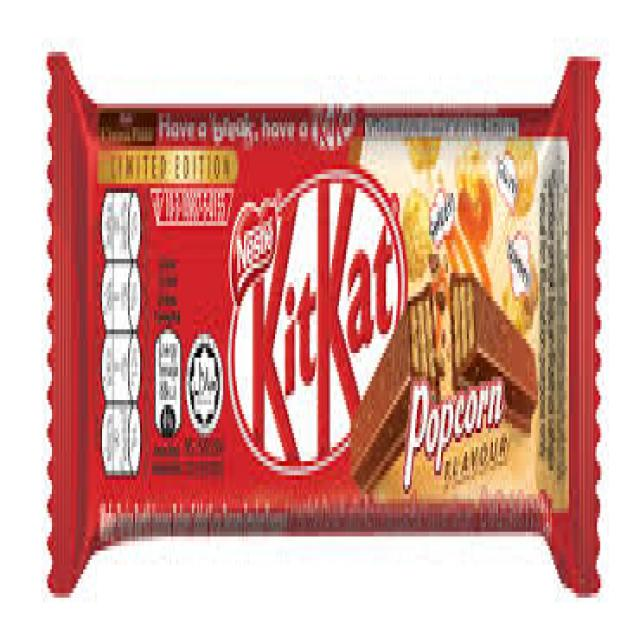kitkat: (47, 46, 600, 600)
